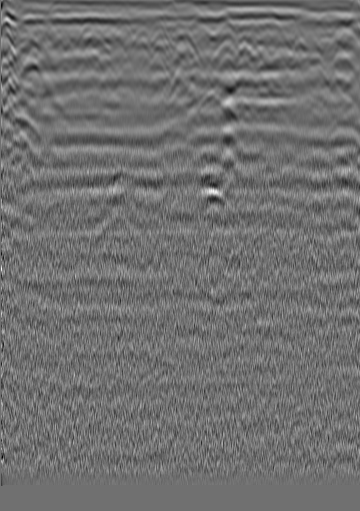상수: (331, 20, 351, 40)
오수: (20, 13, 40, 33)
우수: (176, 28, 196, 48)
